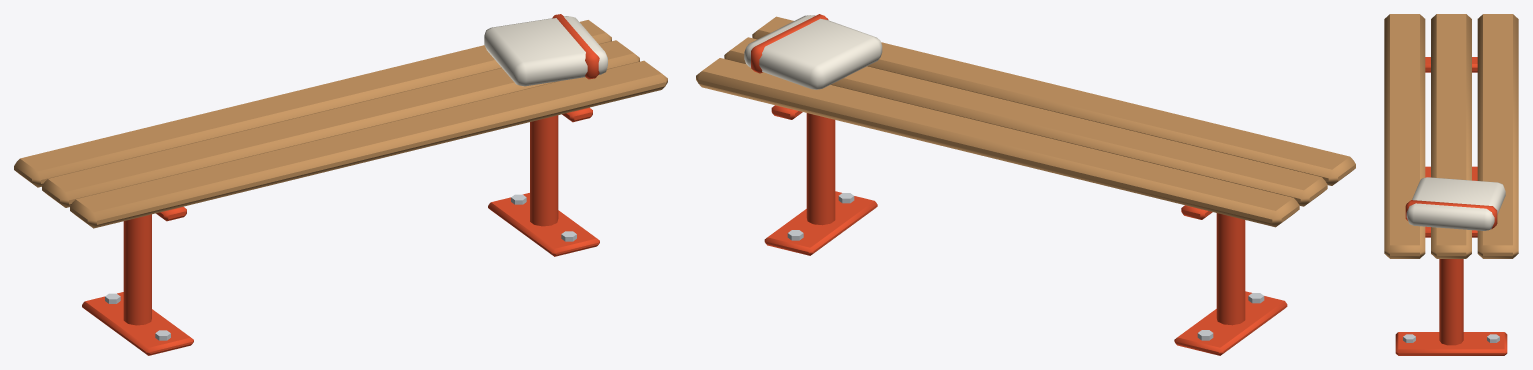
Rendered from Lobby_Bench.fbx.
3 views of the same model, side by side, from view 1: azimuth 30°, elevation 25°; view 2: azimuth 150°, elevation 25°; view 3: azimuth 270°, elevation 25° (orthographic). The views are drawn at different scales.
Parts seen in each view (by area): view 1: Slats, Pedestals, Towel, TowelStripe, Bolts; view 2: Slats, Pedestals, Towel, TowelStripe, Bolts; view 3: Slats, Pedestals, Towel, TowelStripe, Bolts.
Boxes of the visible parts, left/top/right/bottom form: Slats: left=14, top=20, right=667, bottom=228; Pedestals: left=82, top=107, right=599, bottom=355; Towel: left=484, top=16, right=607, bottom=86; TowelStripe: left=552, top=14, right=599, bottom=79; Bolts: left=105, top=194, right=576, bottom=340; Slats: left=696, top=16, right=1355, bottom=227; Pedestals: left=764, top=105, right=1287, bottom=355; Towel: left=744, top=15, right=882, bottom=89; TowelStripe: left=751, top=14, right=828, bottom=73; Bolts: left=787, top=193, right=1264, bottom=340; Slats: left=1384, top=14, right=1518, bottom=258; Pedestals: left=1395, top=57, right=1507, bottom=355; Towel: left=1406, top=177, right=1505, bottom=230; TowelStripe: left=1405, top=200, right=1497, bottom=229; Bolts: left=1403, top=334, right=1499, bottom=342.
Bounding box in the file's own units: 600 × 185 × 144.
